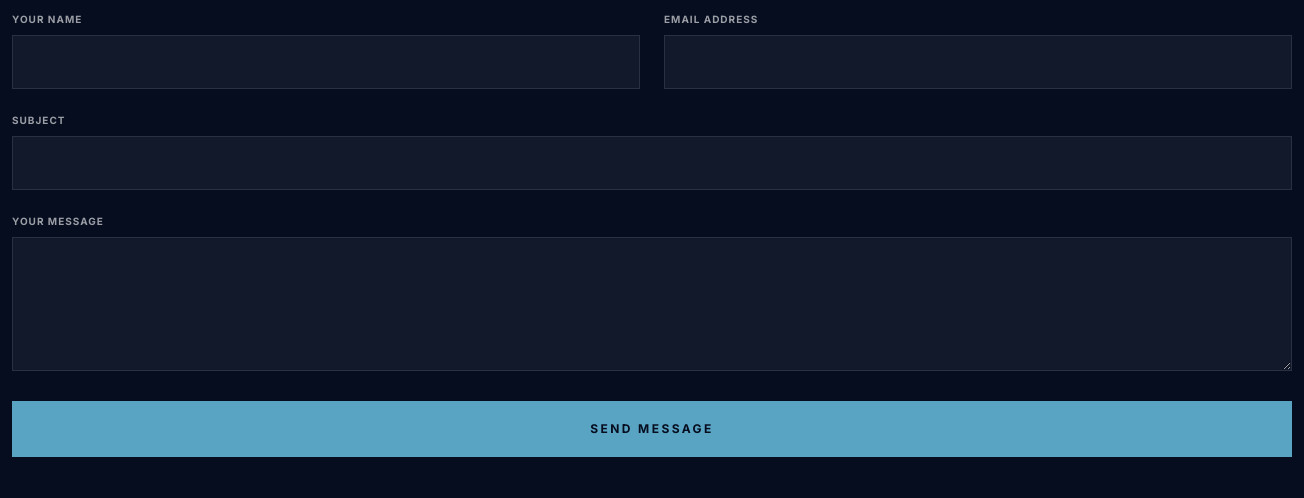
ContactForm › rejects a malformed email
Type "Jane Doe" into the field labelled "Your Name". click: (326, 62)
box: [12,35,640,89]
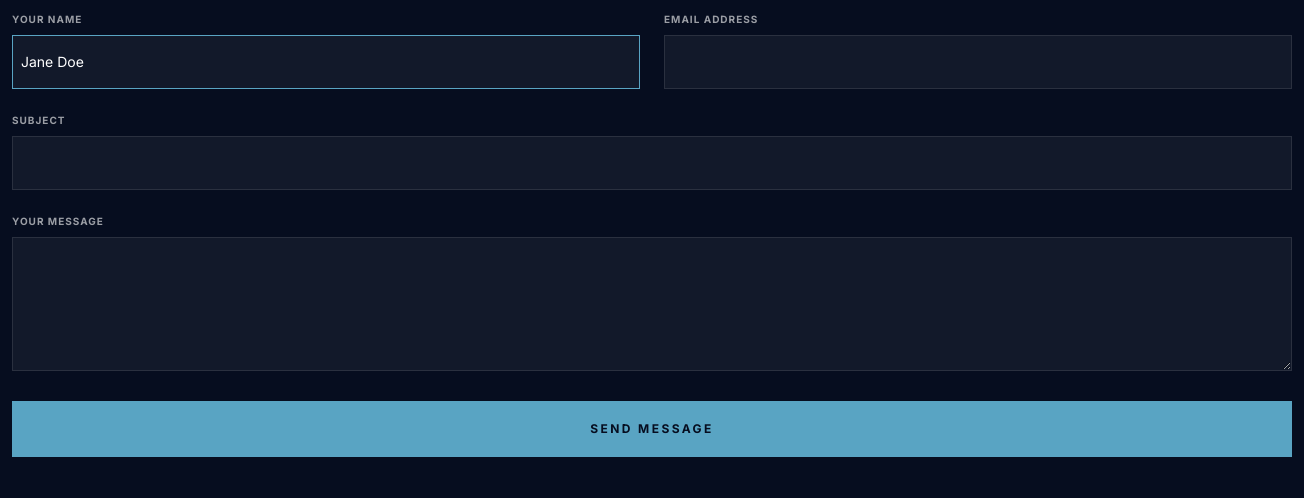
Type "jane@example.com" into the field labelled "Email Address". click: (978, 62)
box: [664,35,1292,89]
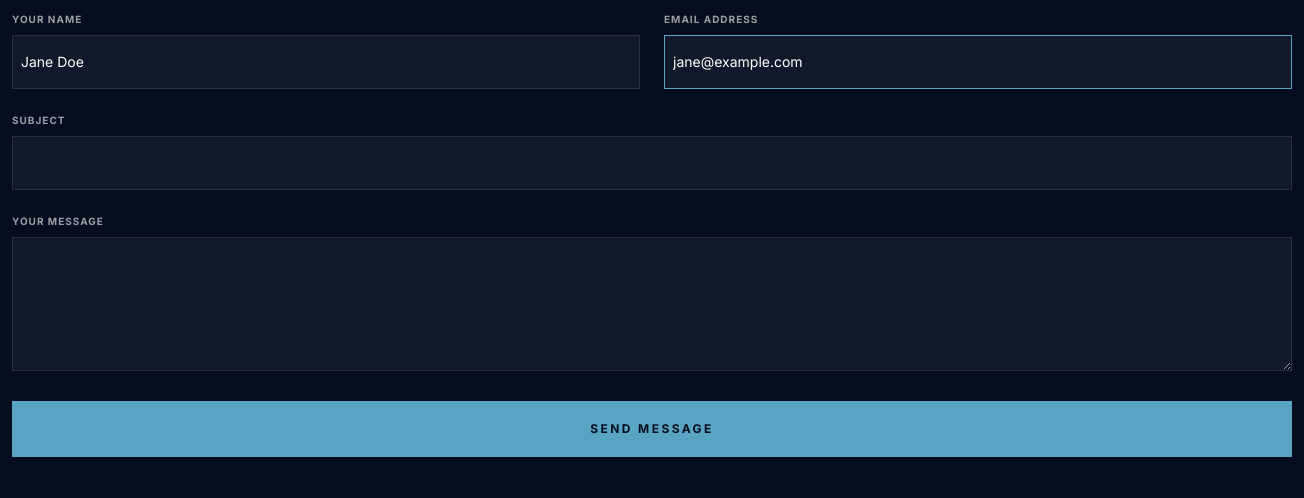
Type "Booking" into the field labelled "Subject". click: (652, 163)
box: [12,136,1292,190]
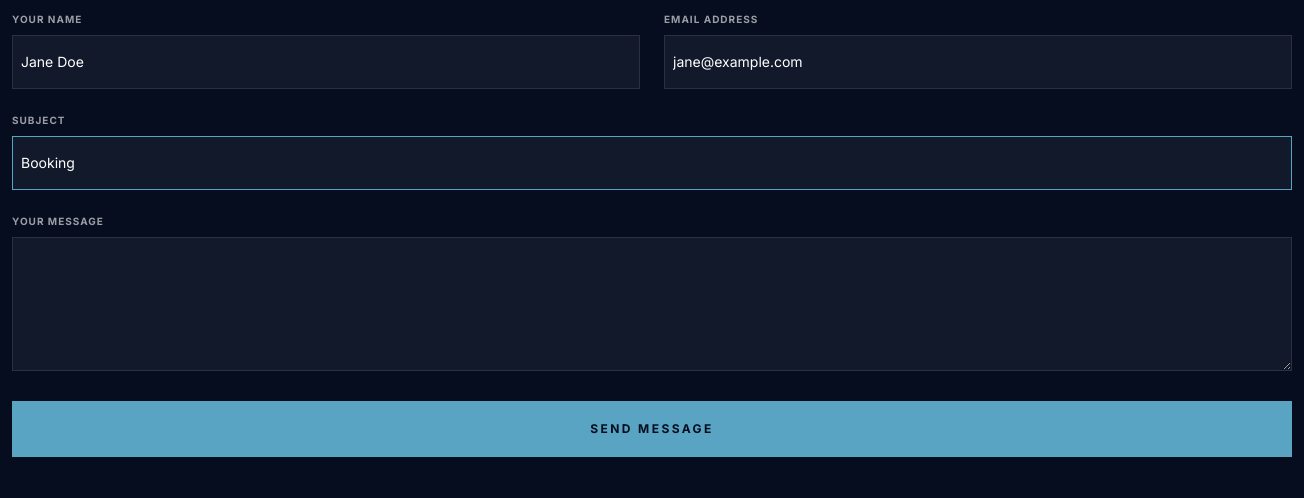
Type "Do you have rooms?" into the text box labelled "Your Message". click: (652, 304)
box: [12,237,1292,371]
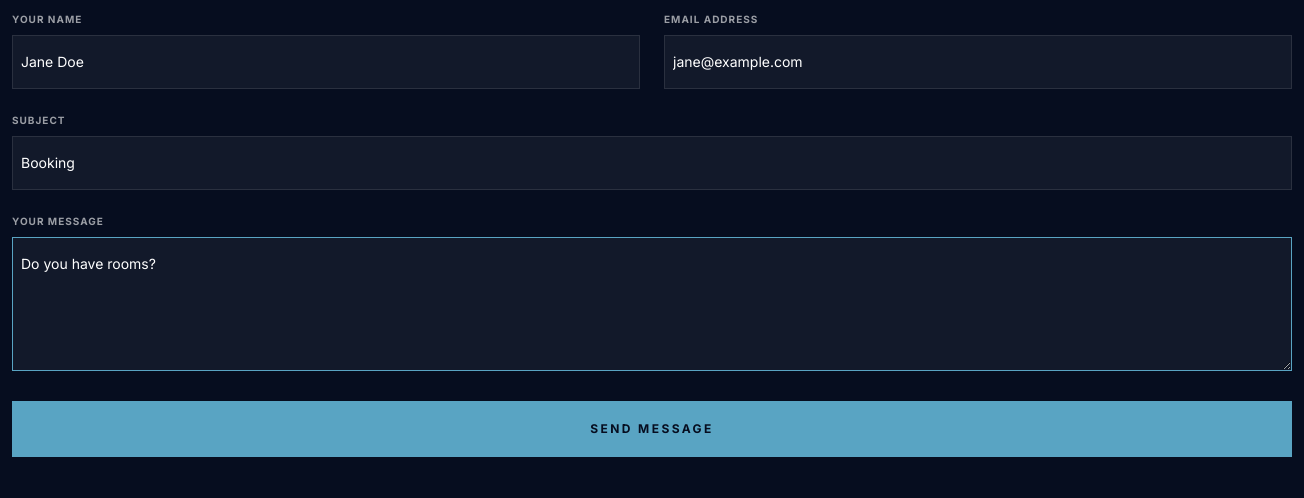
Replace the text in the field labelled "Email Address" with "not-an-email". click: (978, 62)
box: [664,35,1292,89]
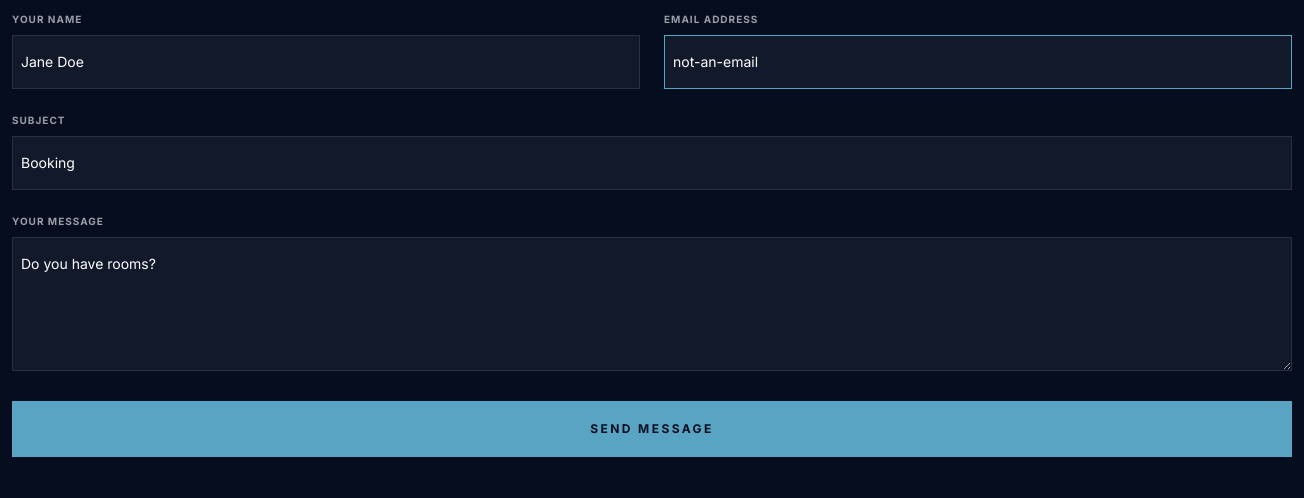
Click the button "Send Message". click: click(652, 429)
box: [12,401,1292,457]
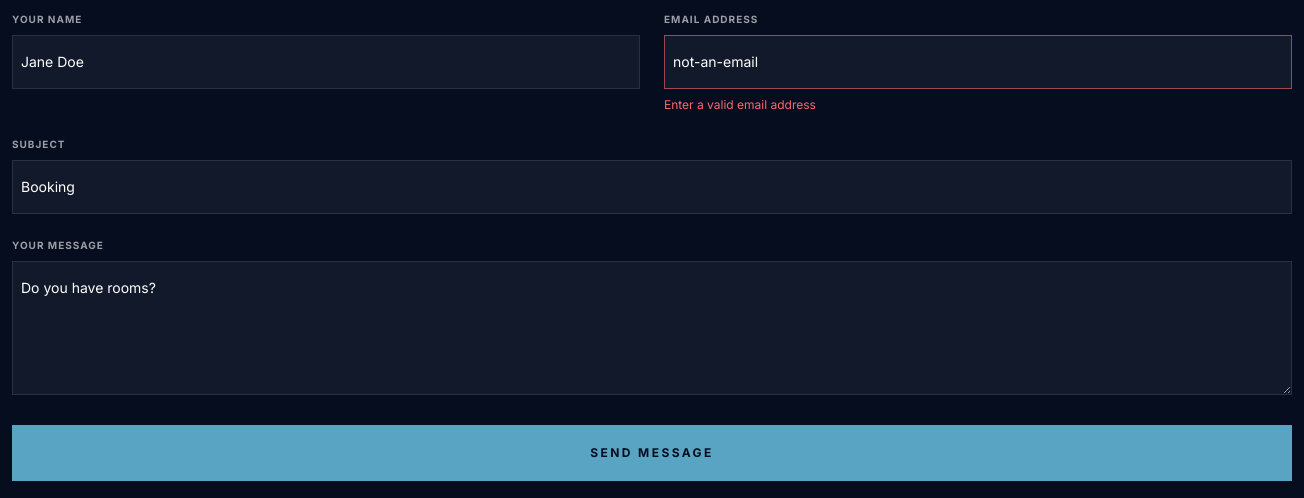
Check: the text "Enter a valid email address" is shown, box [664,97,816,112]
